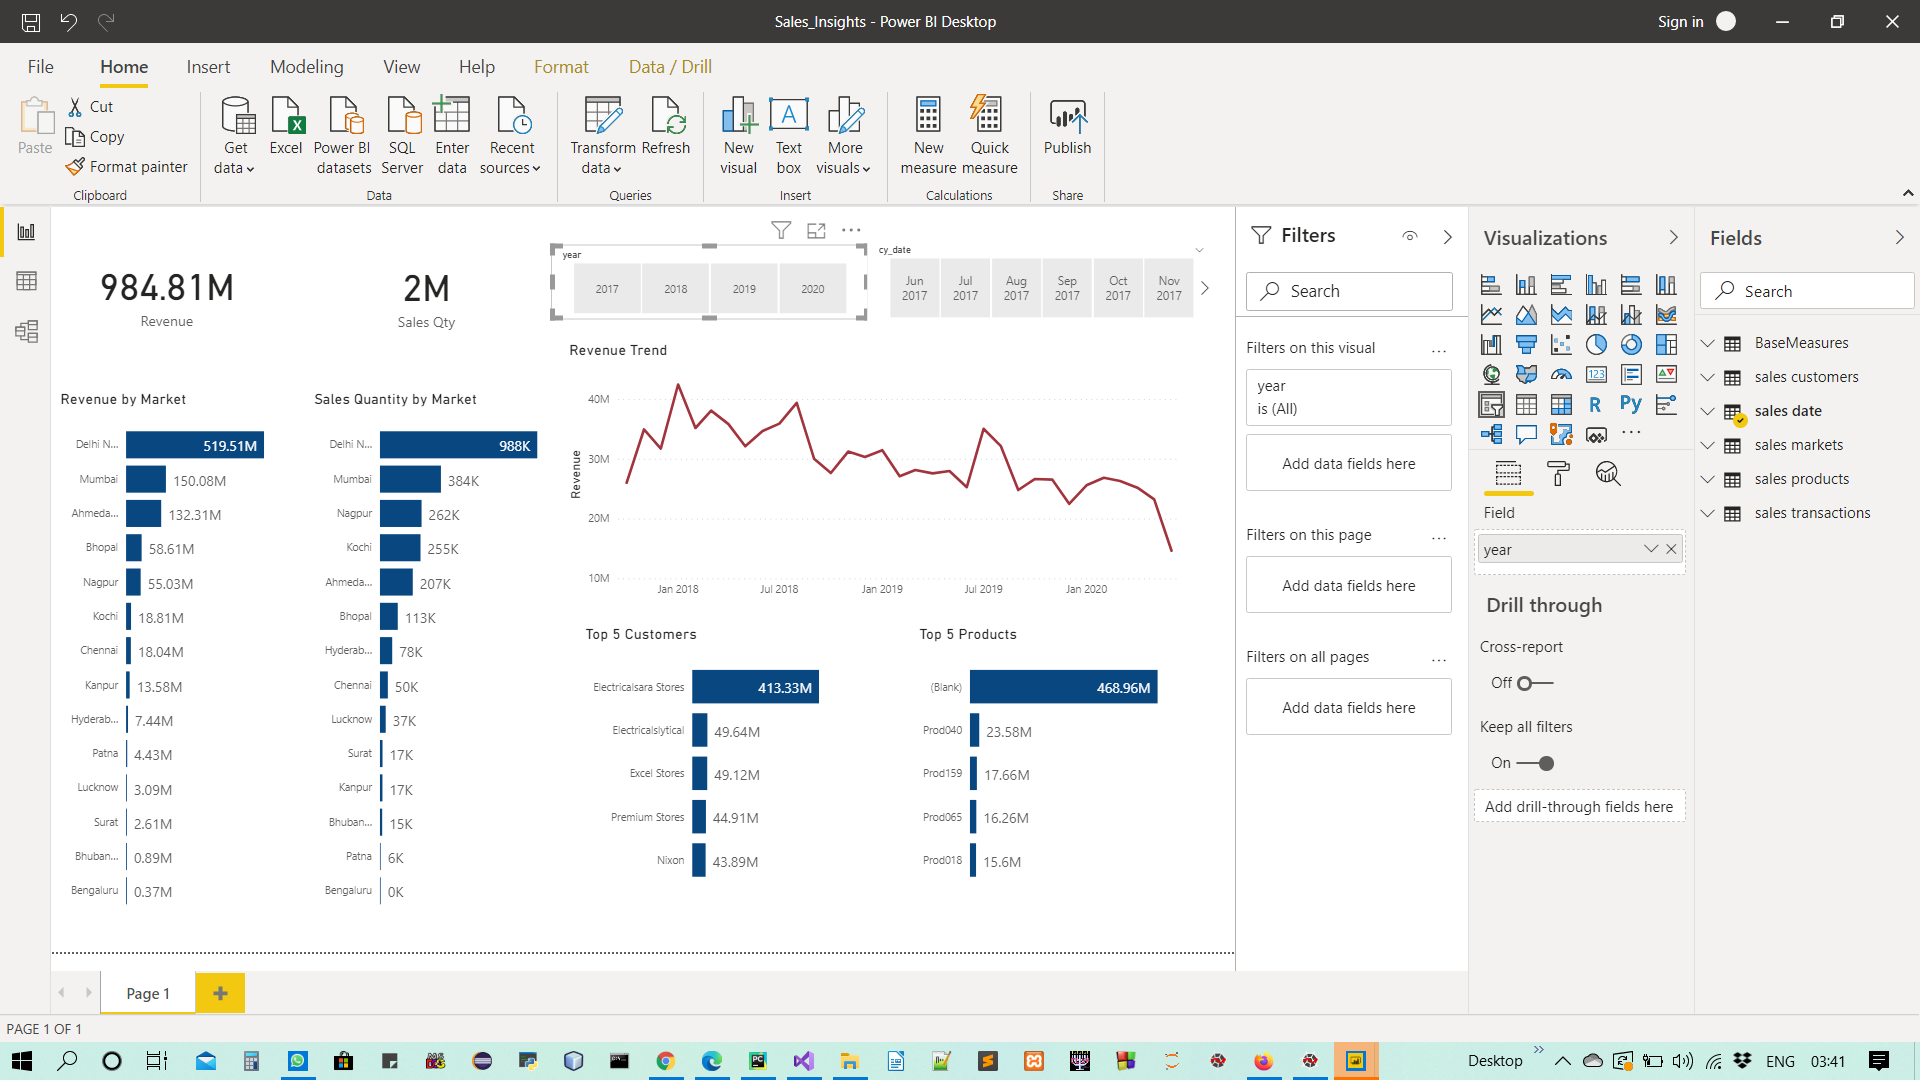

Layout of this report page (visuals, bound fields, positions):
{"tool":"powerbi","page":{"name":"Page 1","canvas":[1350,850],"ordinal":0},"visuals":[{"type":"card","fields":{"Values":["BaseMeasures.Revenue"]},"box":[5.5,0,252.7,196.4],"z":0},{"type":"card","fields":{"Values":["BaseMeasures.Sales Qty"]},"box":[302.7,1.4,252,195.5],"z":1000},{"type":"barChart","title":"Revenue by Market","fields":{"Y":["BaseMeasures.Revenue"],"Category":["sales markets.markets_name"]},"box":[5.8,208.6,266.5,608.4],"z":2000},{"type":"barChart","title":"Sales Quantity by Market","fields":{"Y":["BaseMeasures.Sales Qty"],"Category":["sales markets.markets_name"]},"box":[295.5,208.6,266.5,608.4],"z":3000},{"type":"slicer","fields":{"Values":["sales date.year"]},"box":[570.2,42.8,360.7,85.5],"z":4000},{"type":"slicer","fields":{"Values":["sales date.cy_date"]},"box":[930.9,37.1,396.3,95.5],"z":5000},{"type":"barChart","title":"Top 5 Customers","fields":{"Y":["BaseMeasures.Revenue"],"Category":["sales customers.custmer_name"]},"box":[604.4,476.1,342.1,313.6],"z":5001},{"type":"barChart","title":"Top 5 Products","fields":{"Y":["BaseMeasures.Revenue"],"Category":["sales products.product_code"]},"box":[985.1,476.1,342.1,313.6],"z":5002},{"type":"lineChart","title":"Revenue Trend","fields":{"Category":["sales date.cy_date"],"Y":["BaseMeasures.Revenue"]},"box":[585.9,152.5,721.3,302.2],"z":5003}]}

Visuals, with their boxes on the page's 1350x850 design canvas (x1, y1, x2, y2). These are canvas units, not pixel positions in the 1920x1080 screenshot, which may show the page scaled, cropped or inside an application window:
card - BaseMeasures.Revenue: detection(6, 0, 258, 196)
card - BaseMeasures.Sales Qty: detection(303, 1, 555, 197)
"Revenue by Market" barChart: detection(6, 209, 272, 817)
"Sales Quantity by Market" barChart: detection(296, 209, 562, 817)
slicer - sales date.year: detection(570, 43, 931, 128)
slicer - sales date.cy_date: detection(931, 37, 1327, 133)
"Top 5 Customers" barChart: detection(604, 476, 946, 790)
"Top 5 Products" barChart: detection(985, 476, 1327, 790)
"Revenue Trend" lineChart: detection(586, 152, 1307, 455)
